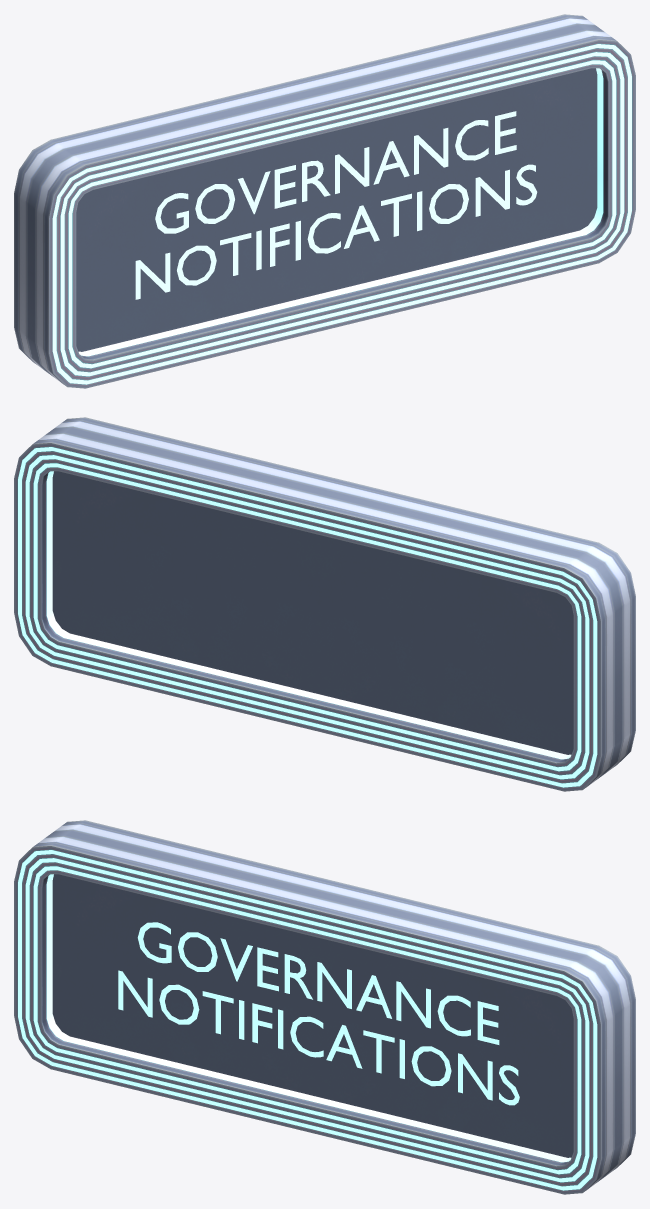
Rendered from obj_notifications.gltf.
3 renders of one model, top to bottom at view 1: azimuth 30°, elevation 25°; view 2: azimuth 150°, elevation 25°; view 3: azimuth 330°, elevation 25°, orthographic.
Parts seen in each view (by area): view 1: obj_notifications; view 2: obj_notifications; view 3: obj_notifications.
Part boxes in pixels (left/top/right/bottom): obj_notifications: left=14, top=14, right=635, bottom=388; obj_notifications: left=14, top=417, right=635, bottom=791; obj_notifications: left=14, top=820, right=635, bottom=1194.
Size of what is drawn, in the model's own units: 4.27 by 1.55 by 0.439.
Materials: 2 (1 with a texture image).
